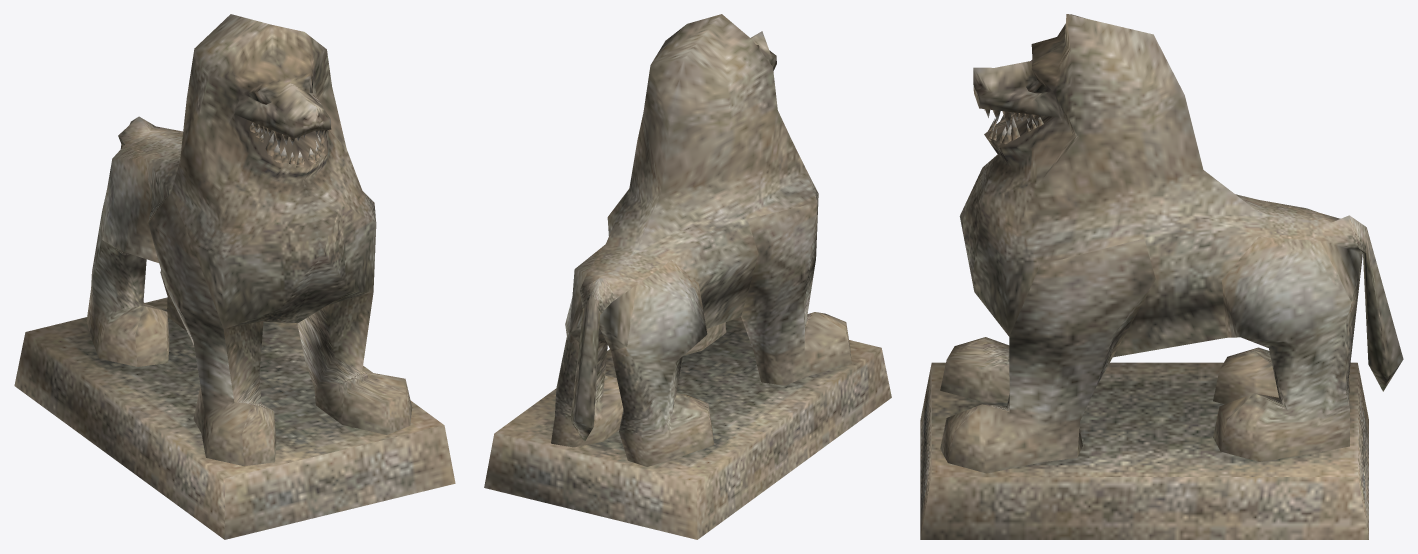
The model's file is desert_lionstone.glb.
3 views of the same model, side by side, from view 1: azimuth 30°, elevation 25°; view 2: azimuth 150°, elevation 25°; view 3: azimuth 270°, elevation 25° (orthographic). The views are drawn at different scales.
Parts seen in each view (by area): view 1: Bip01; view 2: Bip01; view 3: Bip01.
Boxes of the visible parts, <box> form: Bip01: <box>14,14,455,539</box>; Bip01: <box>484,14,891,539</box>; Bip01: <box>920,14,1403,539</box>.
Bounding box in the file's own units: 2.77 × 5.01 × 4.71.
1 material, 1 textured.
